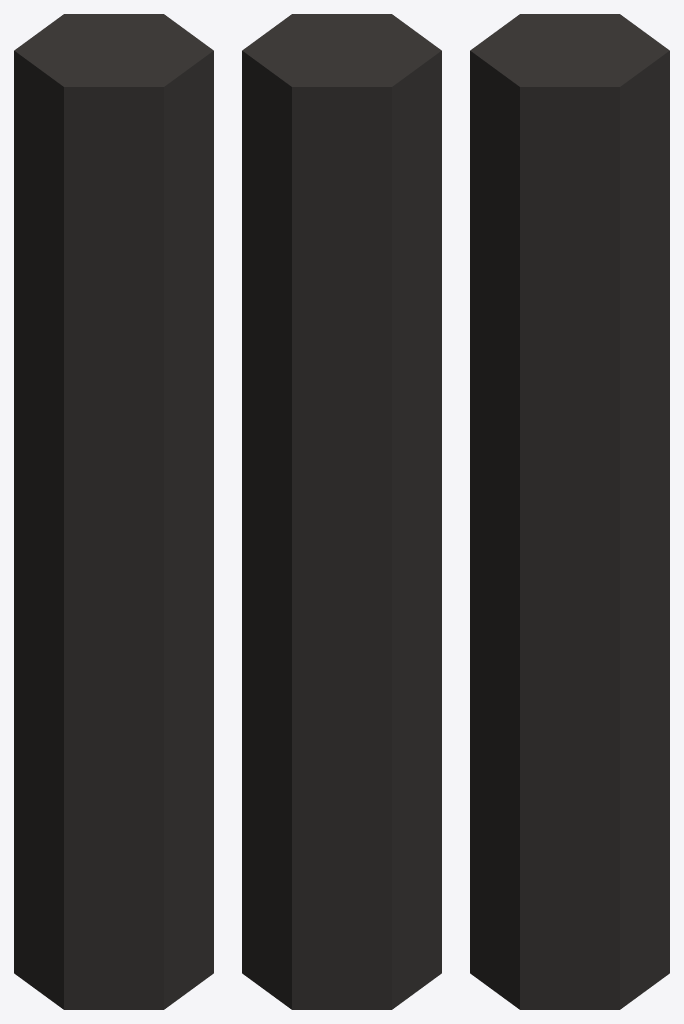
Rendered from forth2.fbx.
3 renders of one model, left to right at view 1: azimuth 30°, elevation 25°; view 2: azimuth 150°, elevation 25°; view 3: azimuth 270°, elevation 25°, orthographic.
Visible parts, largest first — view 1: Circle.002; view 2: Circle.002; view 3: Circle.002.
Part boxes in pixels (box(x1,y1,x2,y2)): Circle.002: box(14, 14, 213, 1009); Circle.002: box(242, 14, 441, 1009); Circle.002: box(470, 14, 669, 1009).
Size of the model in its own units: 38.22 by 225 by 44.14.
